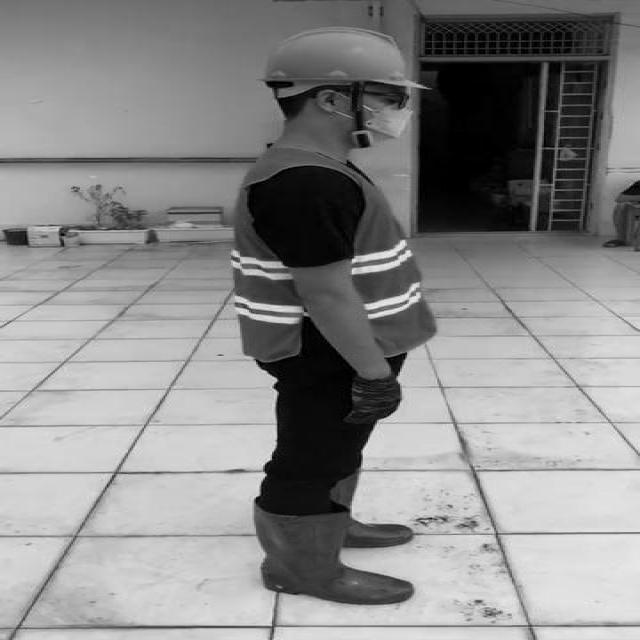boots: (252, 498, 414, 606)
face_mask: (356, 83, 423, 146)
hand_glove: (342, 377, 404, 424)
head_helmet: (261, 22, 418, 89)
person: (196, 19, 458, 602)
vest: (231, 149, 437, 363)
